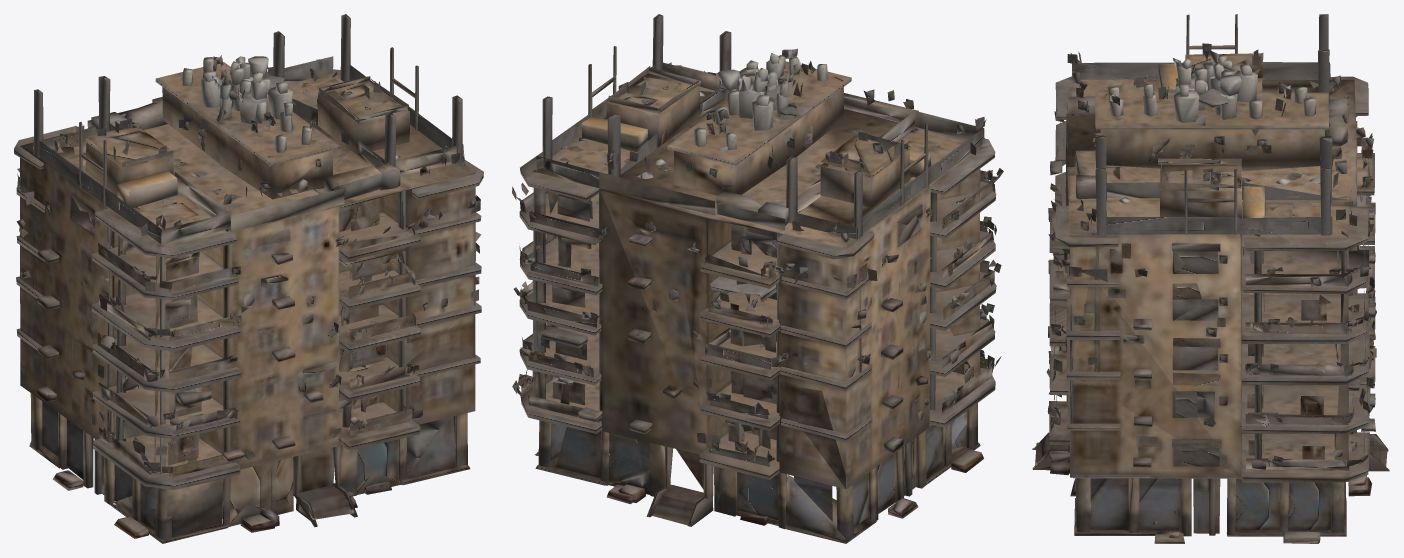
3 views of the same model, side by side, from view 1: azimuth 30°, elevation 25°; view 2: azimuth 150°, elevation 25°; view 3: azimuth 270°, elevation 25° (orthographic).
Visible parts, largest first — view 1: geometry_0; view 2: geometry_0; view 3: geometry_0.
Part boxes in pixels (bbox=[...]): geometry_0: bbox=[14, 14, 483, 543]; geometry_0: bbox=[512, 14, 1003, 543]; geometry_0: bbox=[1032, 14, 1389, 543].
Bounding box in the file's own units: 0.9497 × 1 × 0.8137.
Materials: 1 (1 with a texture image).
